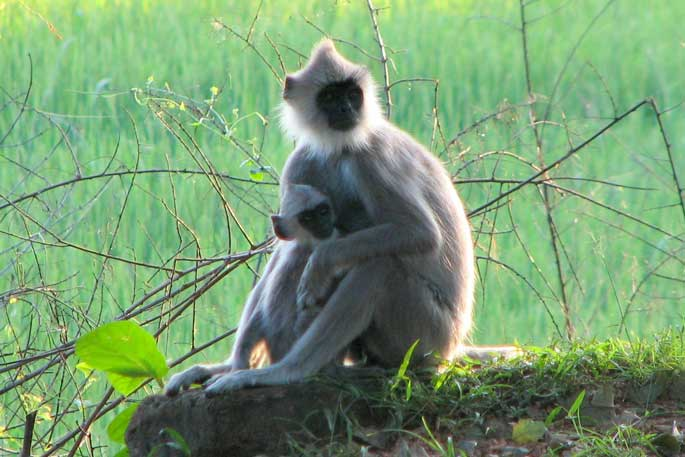Monkey: (208, 27, 492, 399)
